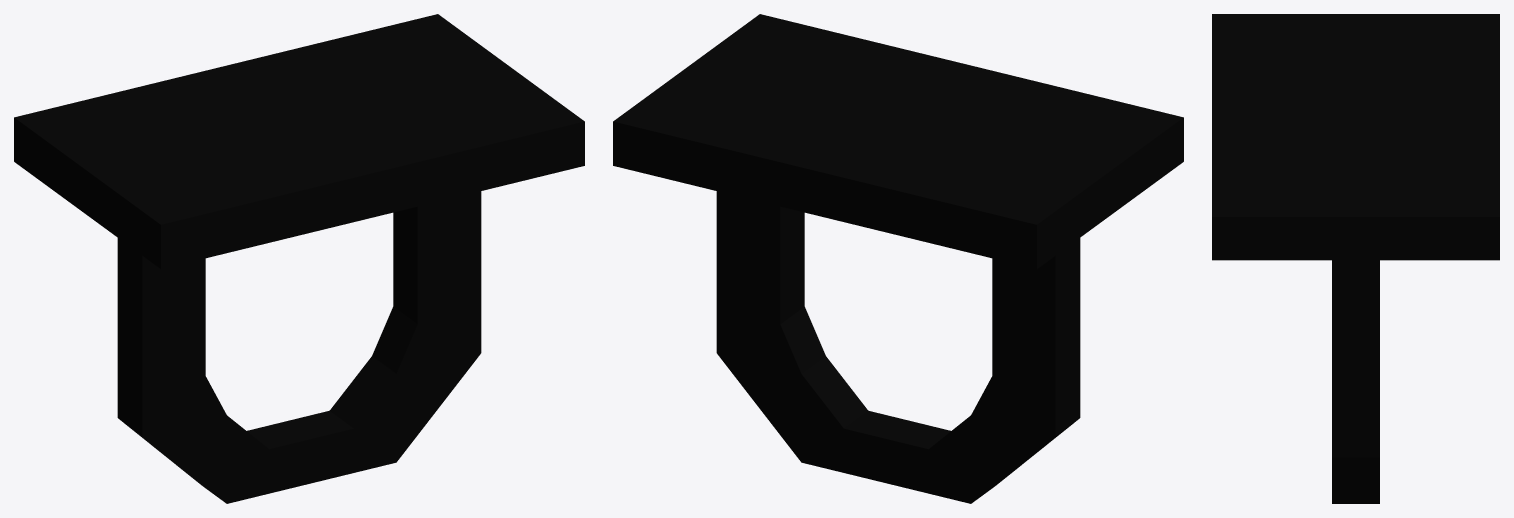
File: extincteur_support.glb
3 views of the same model, side by side, from view 1: azimuth 30°, elevation 25°; view 2: azimuth 150°, elevation 25°; view 3: azimuth 270°, elevation 25° (orthographic).
Visible parts, largest first — view 1: generated(Clone); view 2: generated(Clone); view 3: generated(Clone).
Boxes of the visible parts, <box> form: generated(Clone): <box>14,14,584,503</box>; generated(Clone): <box>613,14,1183,503</box>; generated(Clone): <box>1212,14,1499,503</box>.
Bounding box in the file's own units: 10 × 8 × 6.
Materials: 1 (1 with a texture image).
